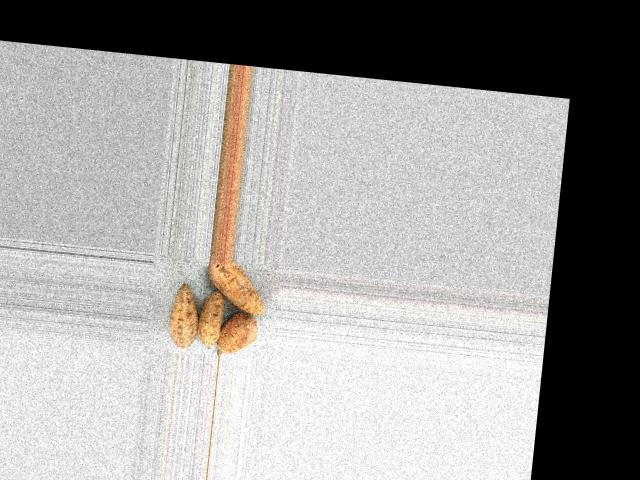sweet_potato: (197, 257, 274, 315)
